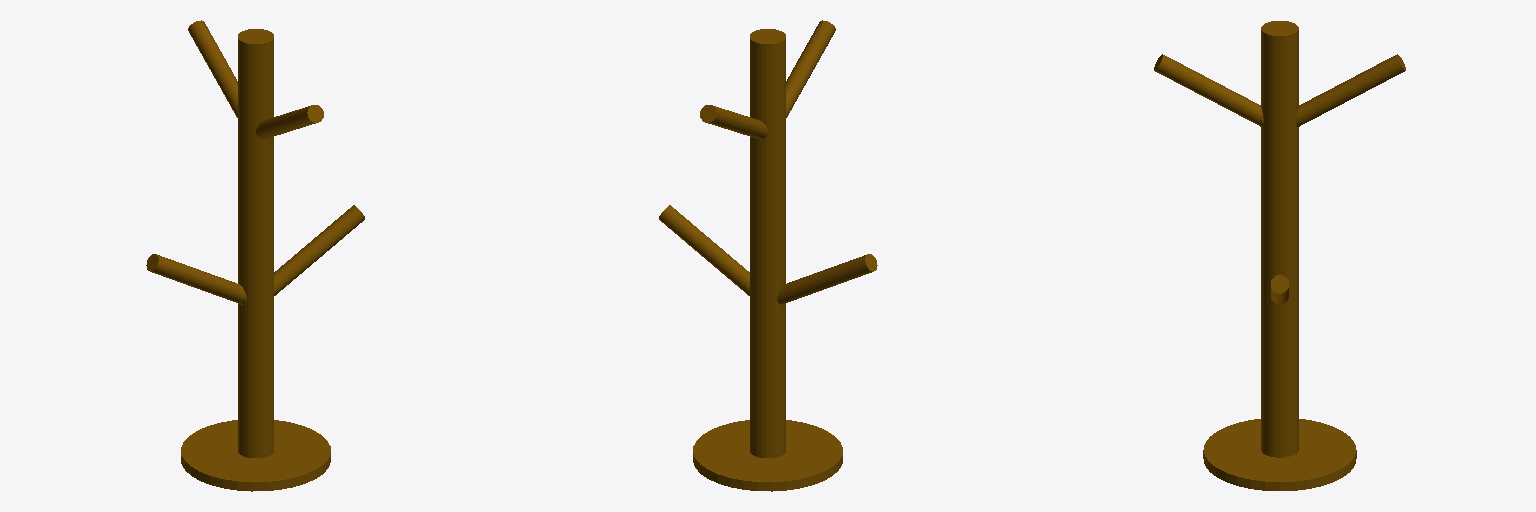
robot.urdf — mug_tree:
<?xml version="1.0" ?>
<robot name="mug_tree">
  <link name="_name">
   
    <visual>
      <origin rpy="0 0 0" xyz="0 0 0" />
      <geometry>
        <mesh filename="mug_tree.obj" scale="1 1 1" />
      </geometry>
      <material name="wood_brown">
        <color rgba="0.5 0.35 0.05 1.0" />
      </material>
    </visual>
    
    <collision>
      <origin rpy="0 0 0" xyz="0 0 0" />
      <geometry>
        <mesh filename="mug_tree.obj" scale="1 1 1" />
      </geometry>
    </collision>
    
    <inertial>
      <origin rpy="0 0 0" xyz="0.0 0.0 0.0" />
      <mass value="0.5" />
      <inertia ixx="1.0" ixy="0.0" ixz="0.0" iyy="1.0" iyz="0.0" izz="1.0" />
    </inertial>
    
  </link>
</robot>

--- Render facts (derived) ---
Views: 3 orthographic renders of the robot side by side, from view 1: azimuth 30°, elevation 25°; view 2: azimuth 150°, elevation 25°; view 3: azimuth 270°, elevation 25°.
Model mug_tree with 1 links and 0 joints (none), rooted at _name, posed all joints at 0.
Links seen in each view (by area): view 1: _name; view 2: _name; view 3: _name.
Link boxes in pixels (left/top/right/bottom): _name: left=146, top=20, right=364, bottom=491; _name: left=659, top=20, right=877, bottom=491; _name: left=1154, top=21, right=1405, bottom=490.
Bounding box of the posed robot: 0.1343 × 0.1343 × 0.2528 m (x, y, z).
1 mesh visuals loaded from 1 distinct referenced files (1 OBJ).
